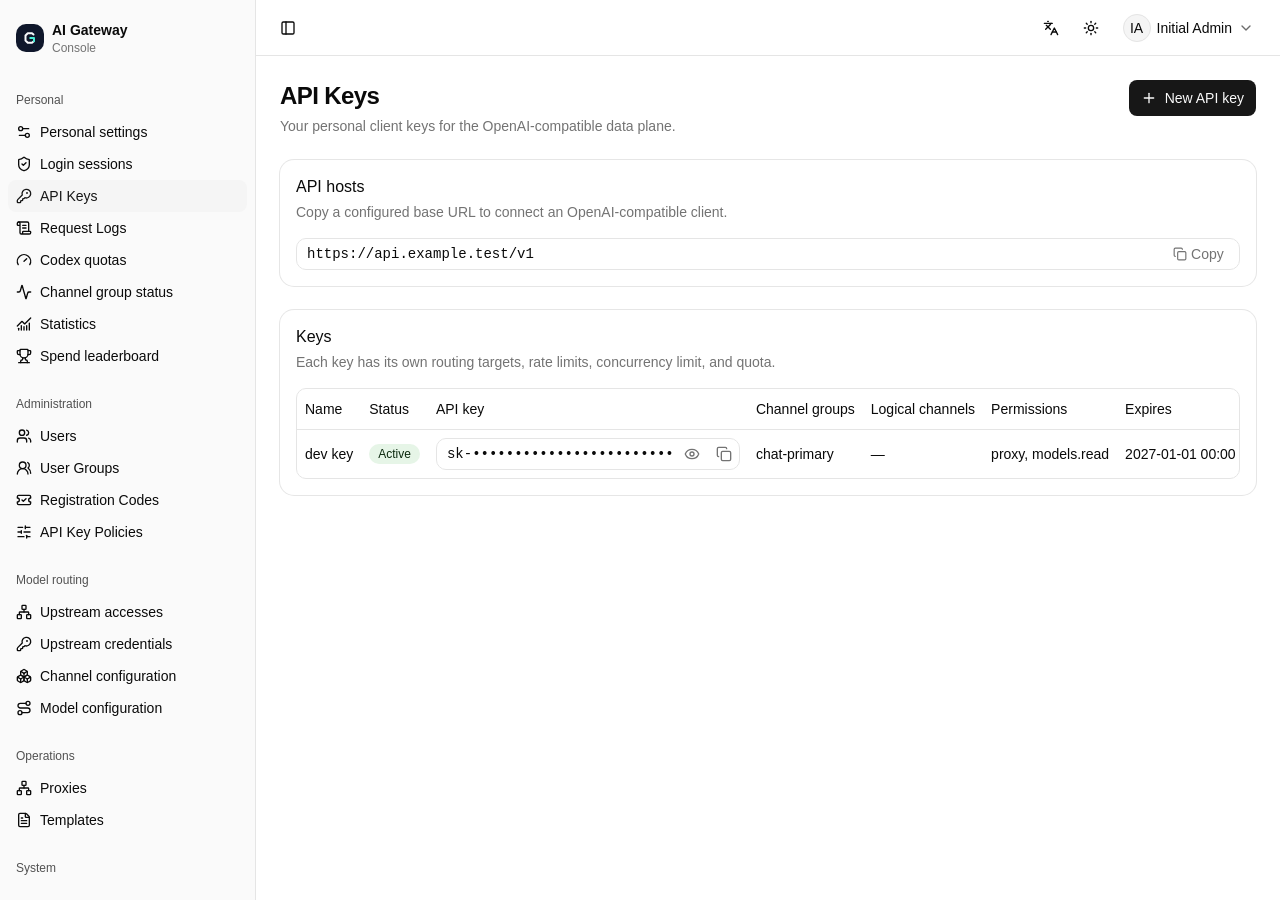
Test case: ApiKeysPage › creates a key without a one-time secret dialog
Expected: the text "dev key" is shown, [305,446,353,462]
Expected: the column heading "Channel groups" is shown, [748,389,863,429]
Click the button "New API key".
click(1192, 98)  # box [1129,80,1256,116]
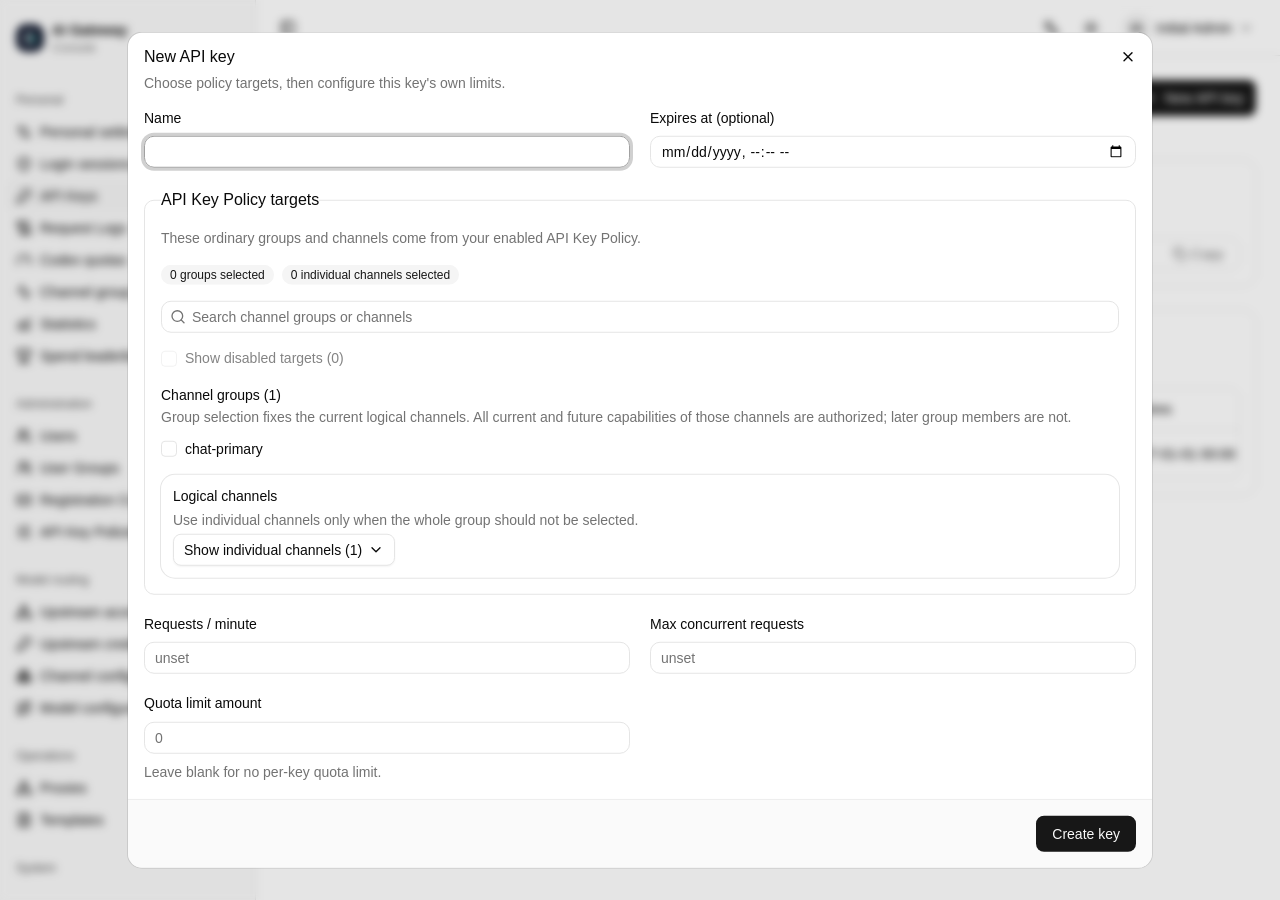
Type "spec key" into the field labelled "Name".
click(387, 152); type("spec key")  # box [144,136,630,168]
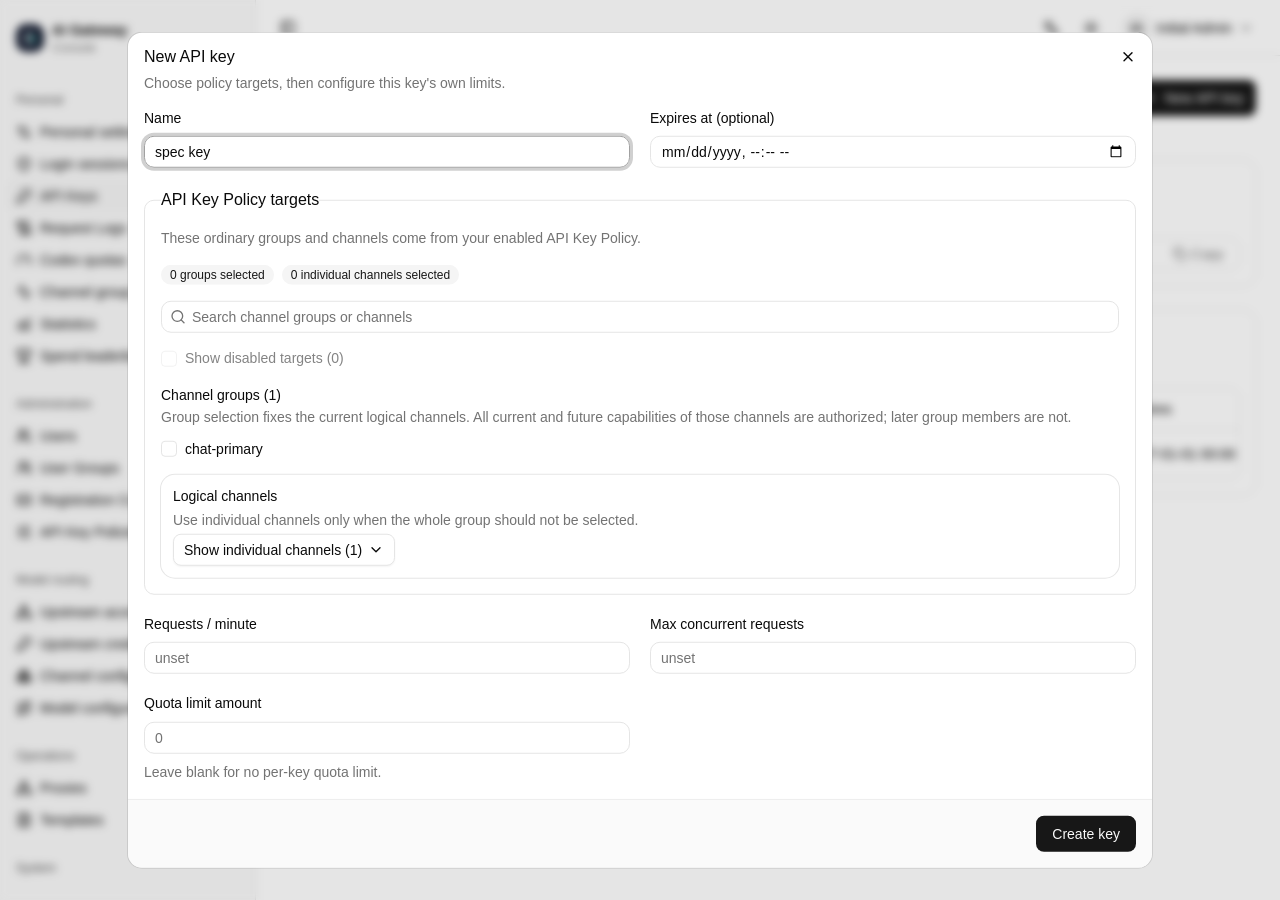
Click the checkbox named "chat-primary".
click(169, 448)  # box [161,440,177,456]
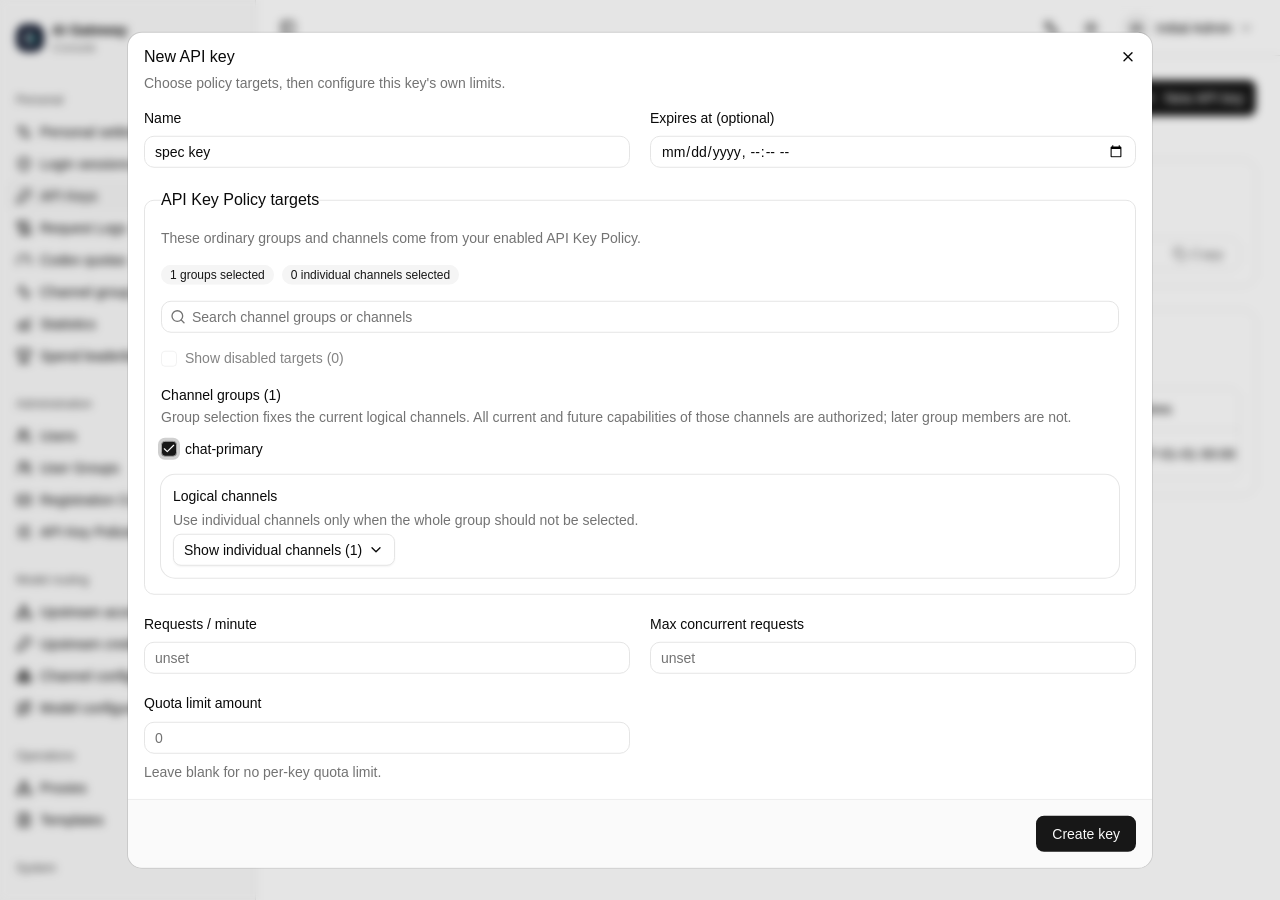
Click the button "Create key".
click(1086, 833)  # box [1036,815,1136,851]
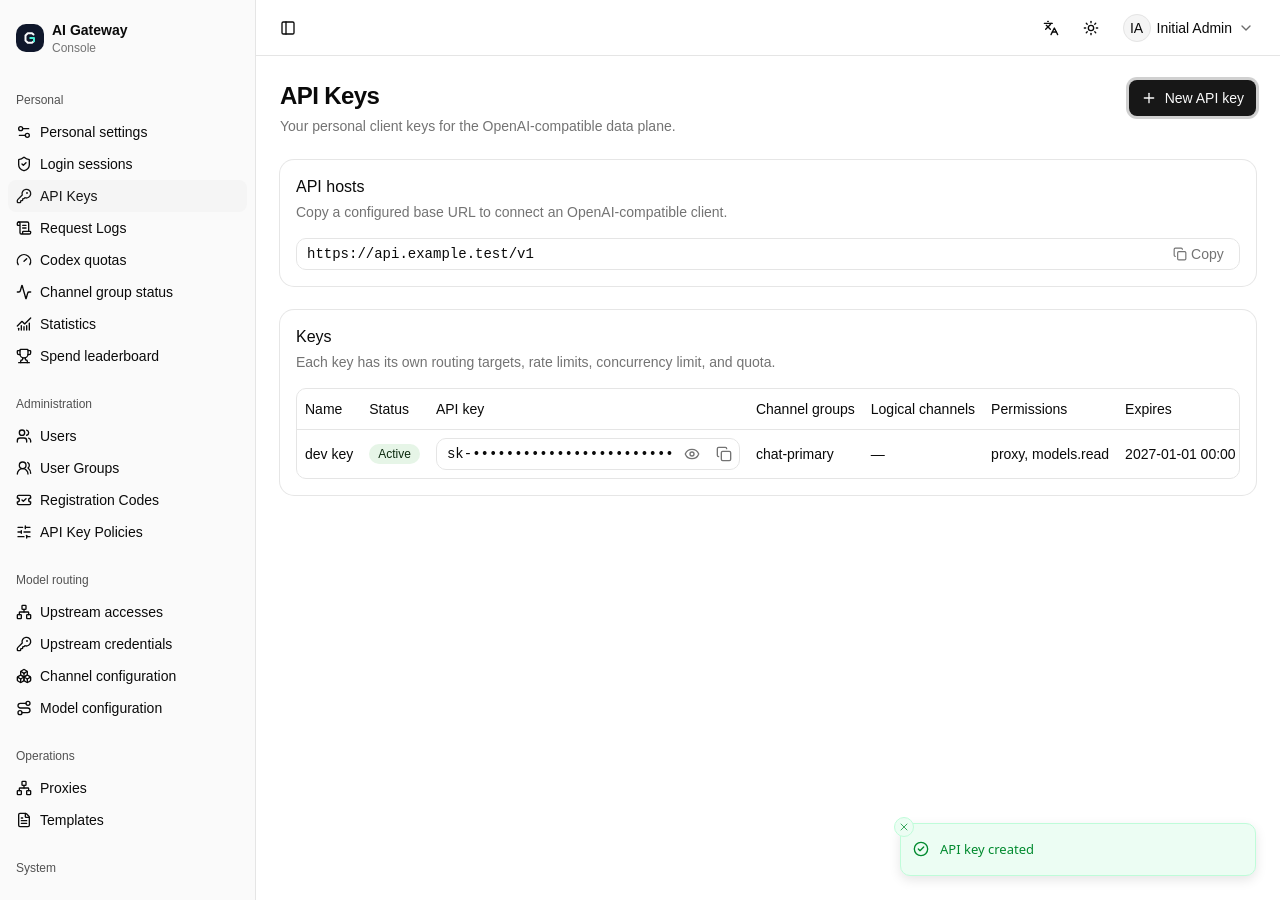
Expected: the text "API key created" is shown, [940,840,1034,859]
